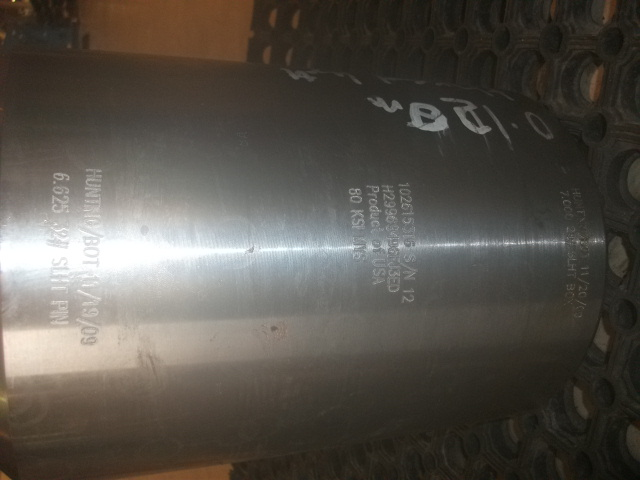character: (76, 289, 103, 301), (49, 266, 73, 278), (48, 220, 70, 232), (82, 188, 105, 199), (80, 307, 101, 319), (79, 335, 100, 347), (79, 257, 101, 268), (49, 231, 71, 242), (401, 270, 421, 282), (51, 204, 71, 216), (50, 283, 70, 295), (399, 294, 418, 306), (84, 167, 104, 178), (81, 246, 101, 257), (49, 299, 69, 310), (48, 315, 72, 324), (81, 208, 102, 218), (80, 229, 105, 237), (76, 319, 101, 327), (83, 179, 105, 188), (51, 194, 70, 204), (82, 219, 103, 228), (49, 241, 70, 250), (52, 171, 72, 180), (403, 252, 419, 263), (400, 263, 422, 271), (346, 186, 363, 196), (80, 274, 101, 282), (79, 327, 100, 335), (371, 276, 386, 287), (82, 237, 100, 246), (51, 256, 69, 265), (371, 258, 387, 268), (349, 209, 365, 219), (351, 236, 367, 246), (351, 253, 367, 263), (381, 183, 396, 193), (80, 282, 101, 289), (400, 216, 416, 225), (52, 186, 70, 194), (403, 239, 417, 249), (49, 278, 72, 284), (384, 223, 399, 232), (387, 254, 402, 263), (365, 184, 380, 193), (371, 268, 386, 277), (83, 197, 102, 204), (400, 203, 416, 211), (400, 225, 416, 233), (384, 231, 400, 239), (385, 261, 401, 269), (350, 218, 366, 226), (79, 301, 100, 307), (575, 299, 590, 307), (384, 215, 399, 223), (386, 285, 401, 293), (578, 263, 592, 271), (578, 270, 594, 277), (398, 188, 412, 196), (398, 196, 414, 203), (382, 200, 396, 208), (386, 239, 400, 247), (385, 247, 401, 254), (387, 277, 401, 285), (349, 196, 363, 204), (352, 246, 368, 253), (578, 277, 591, 285), (563, 213, 576, 221), (369, 212, 382, 220), (367, 206, 384, 212), (565, 282, 576, 291), (381, 193, 395, 200), (384, 208, 398, 215), (372, 248, 386, 255), (578, 291, 590, 299), (565, 225, 577, 233), (402, 287, 418, 293), (371, 228, 384, 235), (371, 239, 381, 248), (370, 220, 381, 228), (48, 311, 70, 315), (400, 234, 417, 239), (572, 195, 584, 202), (574, 203, 586, 210), (561, 199, 573, 206), (398, 181, 412, 187), (576, 208, 586, 216), (366, 193, 379, 199), (571, 188, 582, 195), (388, 269, 399, 276), (368, 199, 379, 206), (569, 186, 580, 193), (401, 211, 416, 216), (578, 285, 590, 291), (560, 189, 570, 196), (564, 206, 573, 213), (81, 205, 102, 208), (350, 226, 365, 230), (560, 196, 565, 199), (52, 181, 57, 184)
